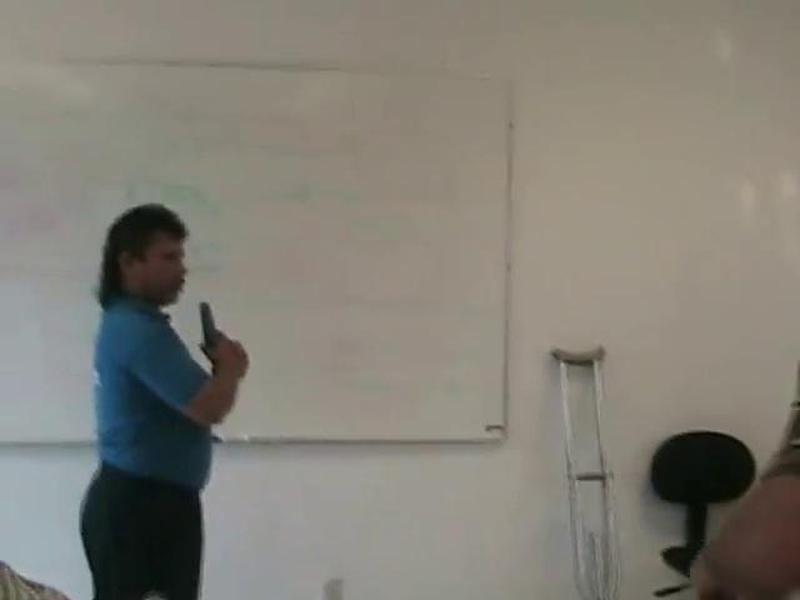Pistola: (184, 304, 253, 397)
